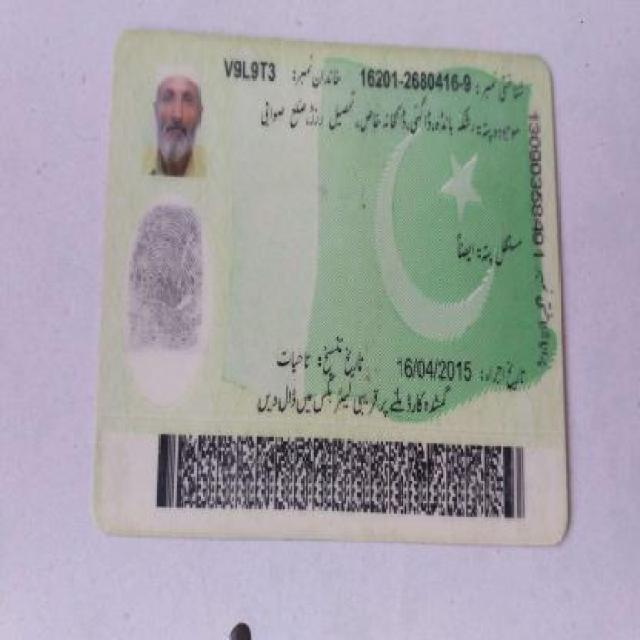Back: (95, 26, 572, 548)
